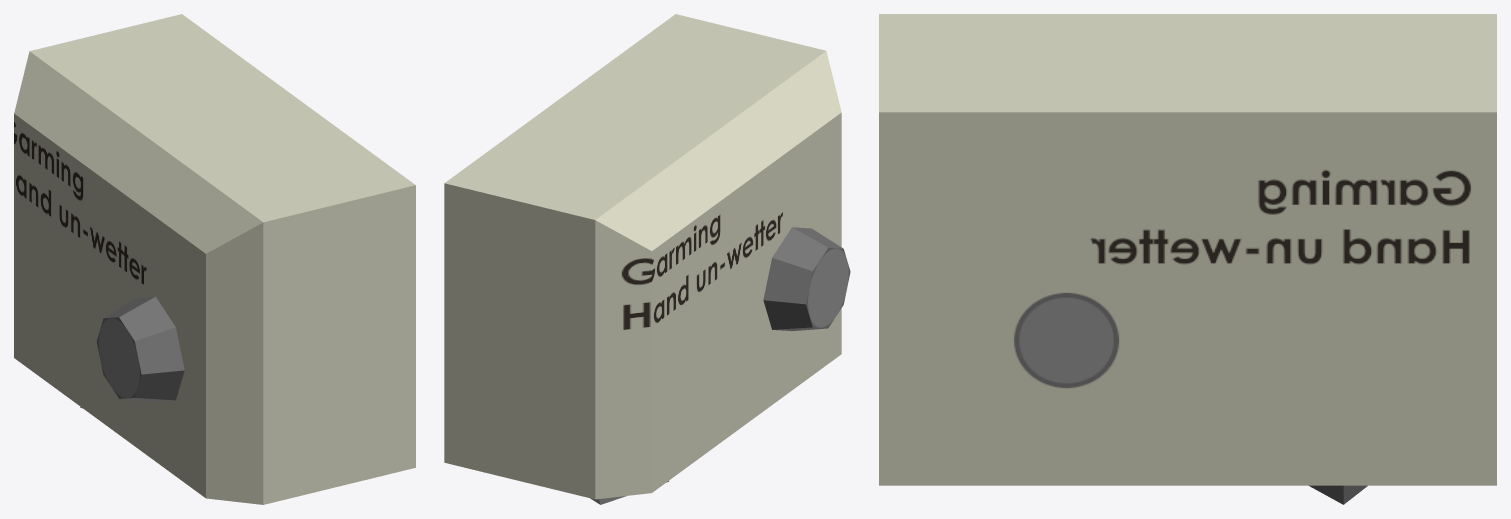
The model's file is HandDryer.fbx.
3 views of the same model, side by side, from view 1: azimuth 30°, elevation 25°; view 2: azimuth 150°, elevation 25°; view 3: azimuth 270°, elevation 25° (orthographic). The views are drawn at different scales.
Parts seen in each view (by area): view 1: Dryer; view 2: Dryer; view 3: Dryer.
Part boxes in pixels (x1=…): Dryer: x1=14, y1=14, x2=415, y2=504; Dryer: x1=444, y1=14, x2=850, y2=504; Dryer: x1=879, y1=14, x2=1496, y2=504.
Bounding box in the file's own units: 27.79 × 39.35 × 49.9.
Materials: 1 (1 with a texture image).
